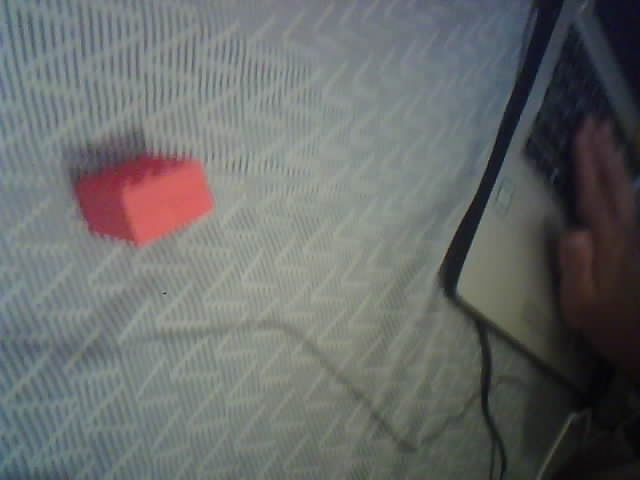lego: (74, 153, 214, 248)
